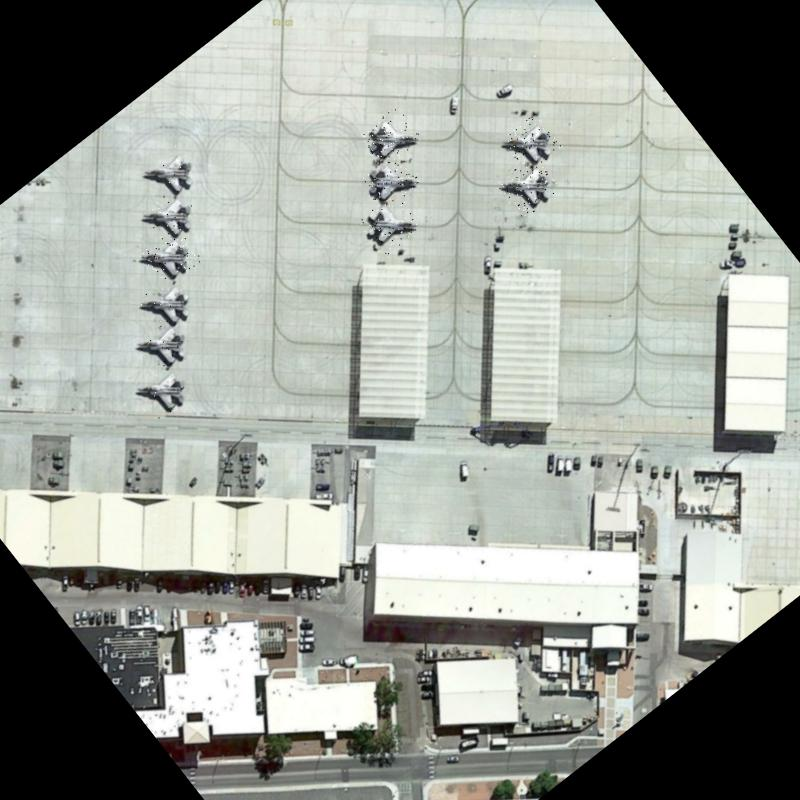A15: (356, 188, 427, 258), (496, 154, 562, 220), (136, 271, 202, 336), (358, 148, 425, 212), (134, 360, 198, 423), (141, 185, 204, 248), (139, 226, 203, 288), (358, 106, 422, 168), (501, 112, 564, 174), (144, 142, 204, 204), (135, 316, 196, 376)
